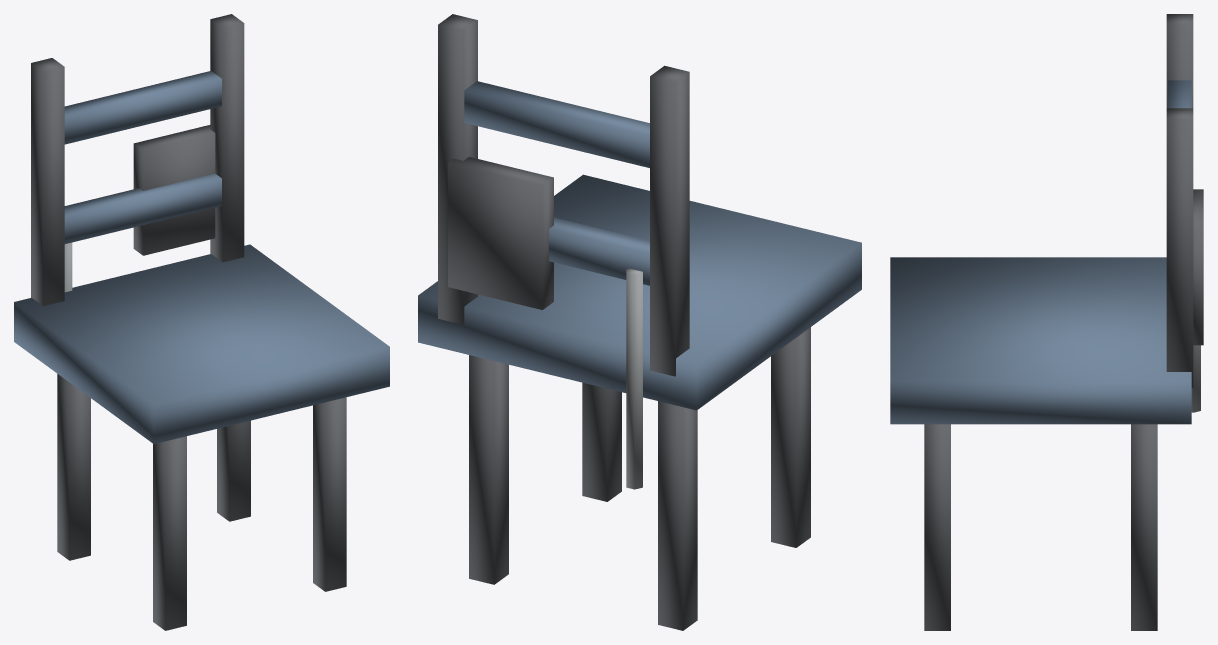
Rendered from station_bench__service.glb.
3 views of the same model, side by side, from view 1: azimuth 30°, elevation 25°; view 2: azimuth 150°, elevation 25°; view 3: azimuth 270°, elevation 25° (orthographic). The views are drawn at different scales.
Visible parts, largest first — view 1: world; view 2: world; view 3: world.
Boxes of the visible parts, left/top/right/bottom form: world: left=14, top=14, right=389, bottom=630; world: left=418, top=14, right=861, bottom=630; world: left=890, top=14, right=1203, bottom=630.
Bounding box in the file's own units: 0.4959 × 0.9614 × 0.5287.
